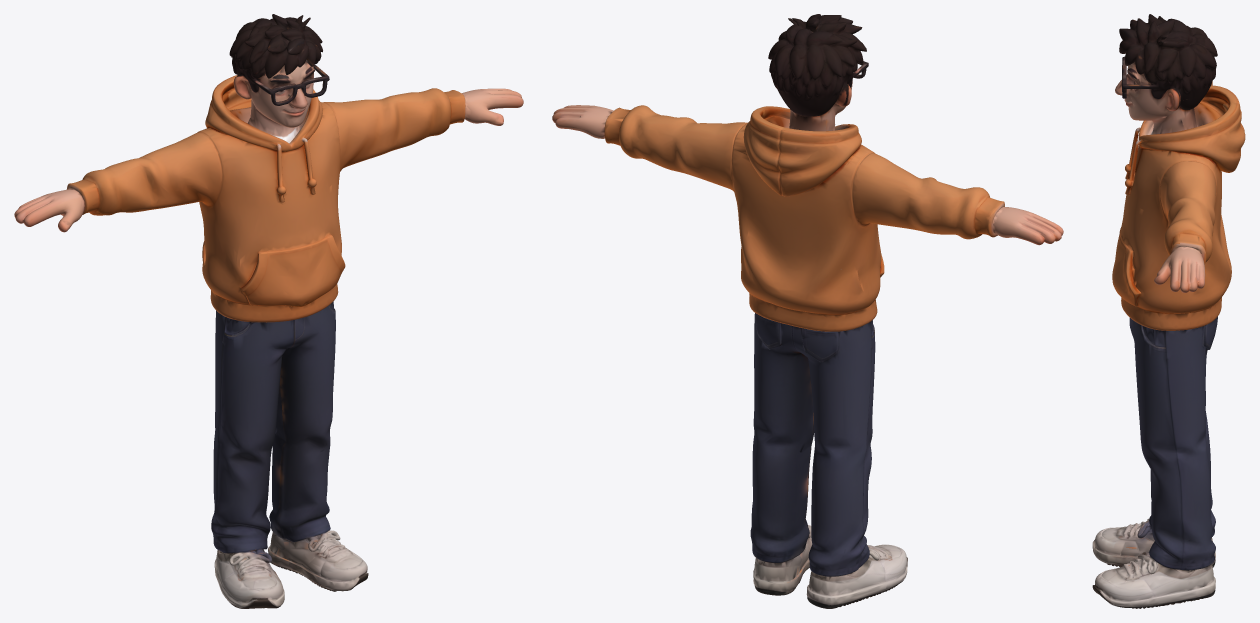
The model's file is male.glb.
3 views of the same model, side by side, from view 1: azimuth 30°, elevation 25°; view 2: azimuth 150°, elevation 25°; view 3: azimuth 270°, elevation 25° (orthographic).
Parts seen in each view (by area): view 1: node_0; view 2: node_0; view 3: node_0.
Boxes of the visible parts, x1,y1,x2,y2 form: node_0: [14, 14, 523, 608]; node_0: [552, 14, 1063, 608]; node_0: [1092, 14, 1245, 608].
Size of the model in its own units: 1.07 by 1.14 by 0.2819.
Materials: 1 (1 with a texture image).
